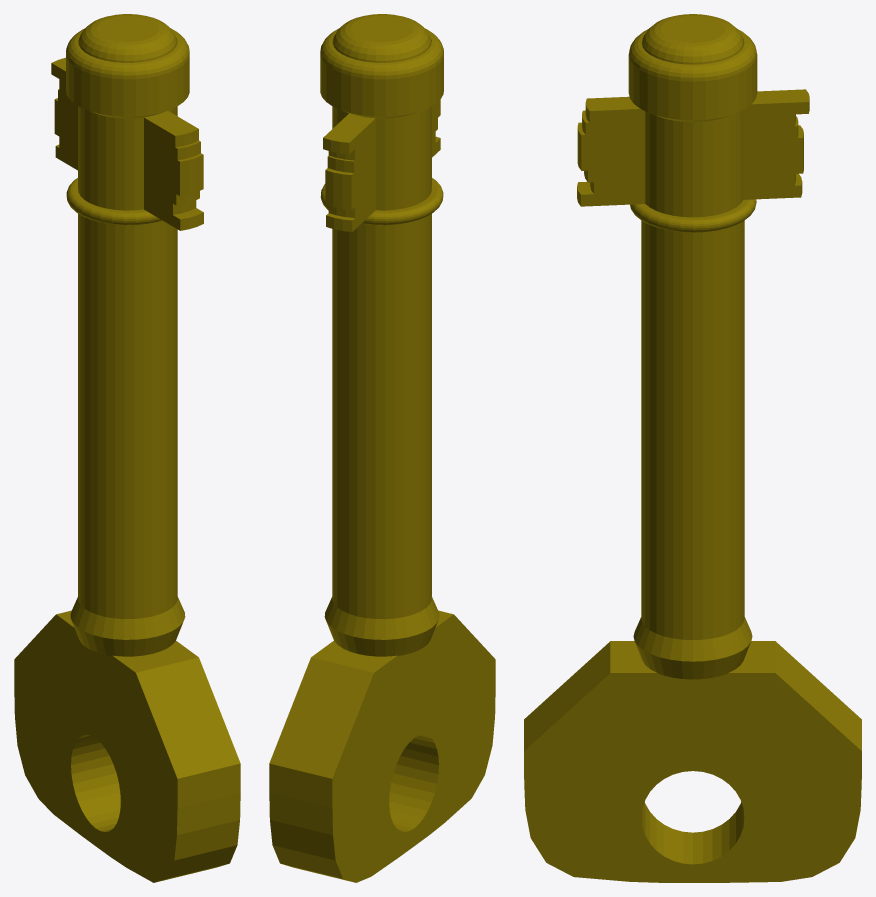
The model's file is Llave.fbx.
3 views of the same model, side by side, from view 1: azimuth 30°, elevation 25°; view 2: azimuth 150°, elevation 25°; view 3: azimuth 270°, elevation 25° (orthographic). The views are drawn at different scales.
Parts seen in each view (by area): view 1: Cylinder; view 2: Cylinder; view 3: Cylinder.
Boxes of the visible parts, x1,y1,x2,y2 form: Cylinder: (14,14,240,882); Cylinder: (269,14,495,882); Cylinder: (524,14,861,882).
Size of the model in its own units: 249 by 1793 by 655.
